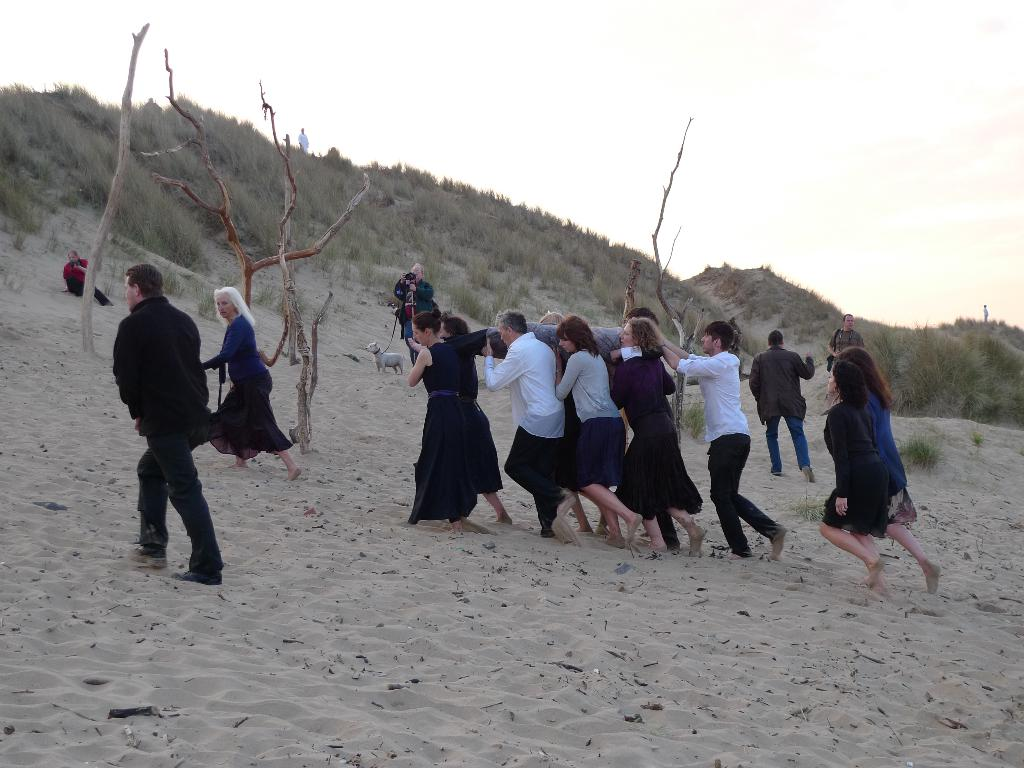Footwear: (122, 544, 161, 572), (624, 506, 637, 545), (289, 472, 300, 479), (801, 467, 809, 475)
